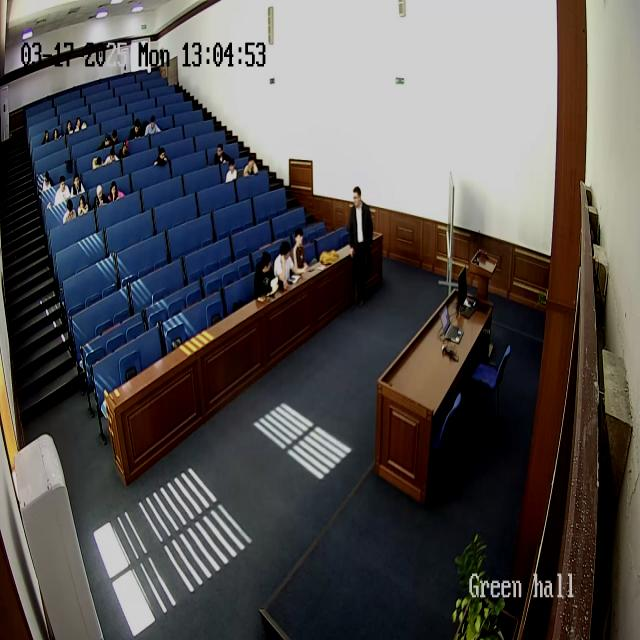person: (347, 184, 374, 305), (273, 240, 299, 289), (253, 250, 279, 298), (291, 228, 315, 276), (55, 175, 71, 207), (94, 184, 110, 211), (62, 197, 77, 225), (70, 172, 86, 198), (243, 152, 259, 177), (144, 116, 162, 136), (108, 180, 124, 202), (213, 142, 227, 166), (41, 172, 55, 194), (226, 159, 238, 184), (77, 191, 89, 216), (154, 147, 168, 166), (98, 133, 112, 152), (130, 118, 142, 140), (105, 147, 119, 165), (118, 140, 130, 160), (75, 116, 87, 134), (109, 130, 121, 148), (65, 119, 75, 138), (91, 156, 103, 170), (51, 127, 61, 141), (42, 126, 50, 143)
